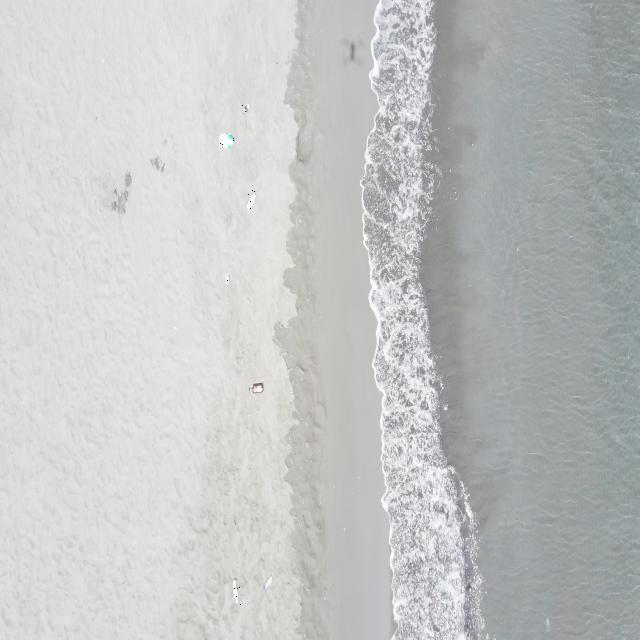Garbage: (111, 171, 131, 212), (219, 132, 233, 147), (151, 155, 163, 172), (233, 577, 240, 604), (247, 188, 255, 209), (263, 575, 271, 590), (249, 383, 263, 391), (241, 103, 247, 111), (224, 272, 228, 283)
